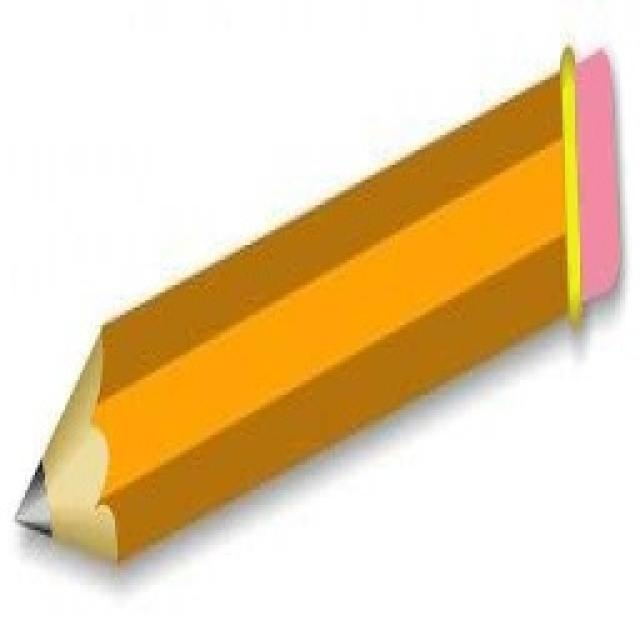pencil: (10, 35, 625, 565)
